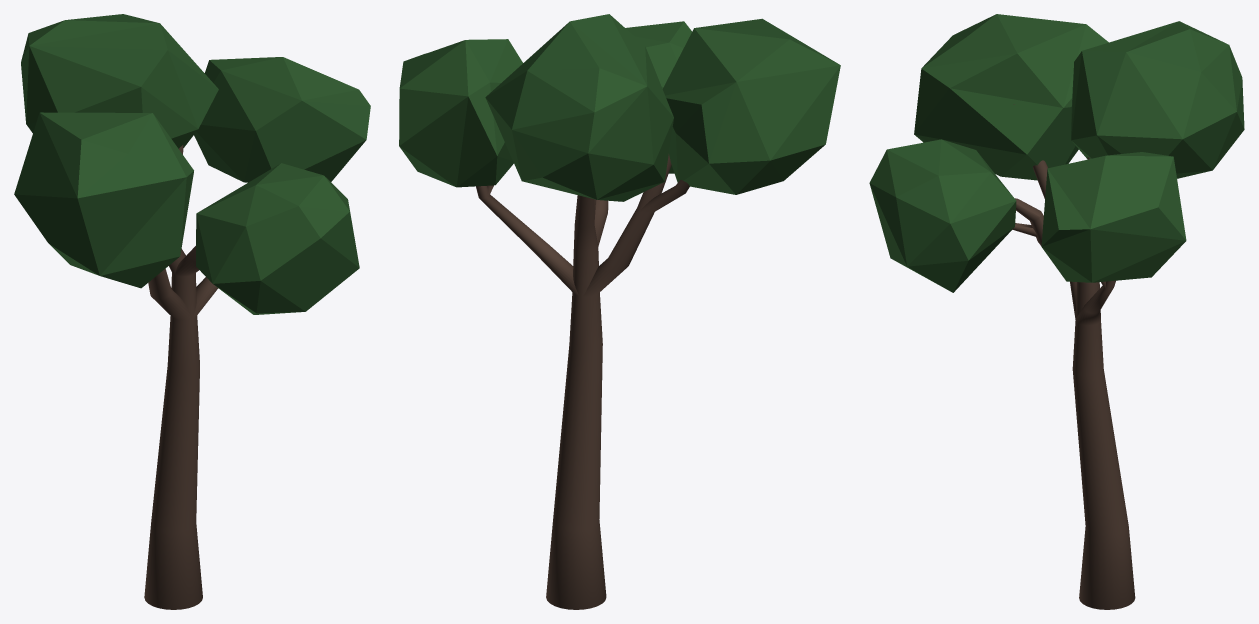
The model's file is Tree1.fbx.
3 renders of one model, left to right at view 1: azimuth 30°, elevation 25°; view 2: azimuth 150°, elevation 25°; view 3: azimuth 270°, elevation 25°, orthographic. The views are drawn at different scales.
Visible parts, largest first — view 1: Leaves, Trunk; view 2: Leaves, Trunk; view 3: Leaves, Trunk.
Boxes of the visible parts, left/top/right/bottom form: Leaves: left=14, top=14, right=370, bottom=314; Trunk: left=144, top=145, right=218, bottom=609; Leaves: left=399, top=14, right=840, bottom=201; Trunk: left=476, top=154, right=689, bottom=609; Leaves: left=869, top=14, right=1244, bottom=292; Trunk: left=1012, top=104, right=1135, bottom=609.
Bounding box in the file's own units: 318 × 479 × 299.
